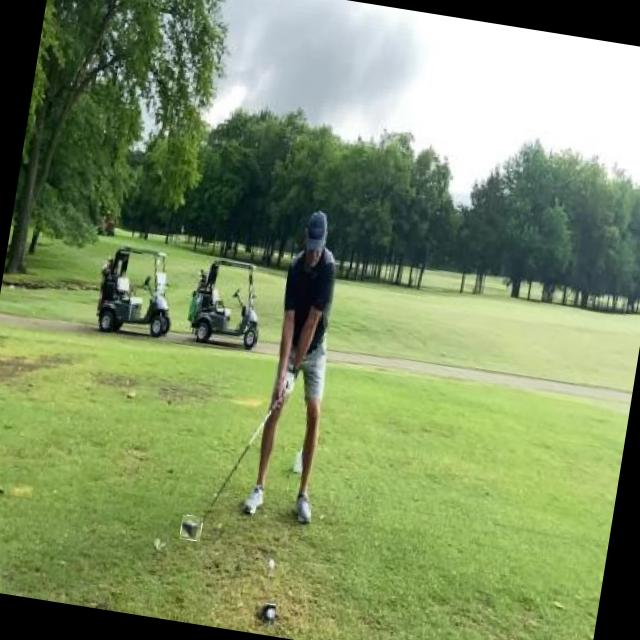club head: (180, 515, 203, 542)
